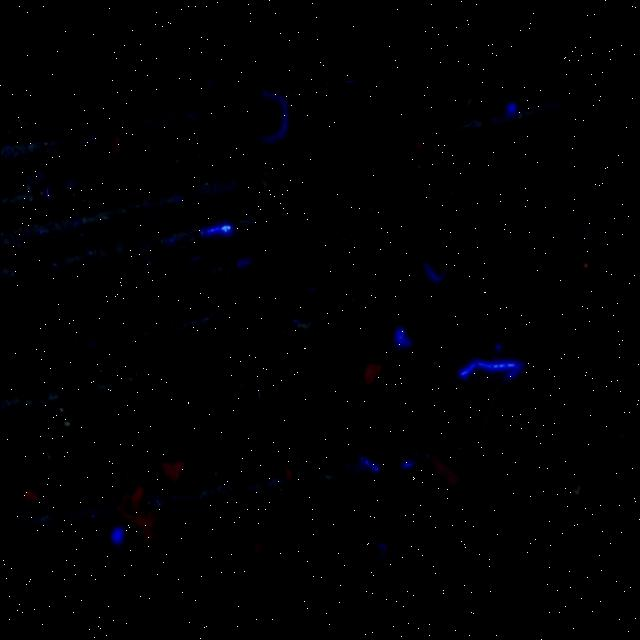Fibre: (238, 372, 282, 420)
